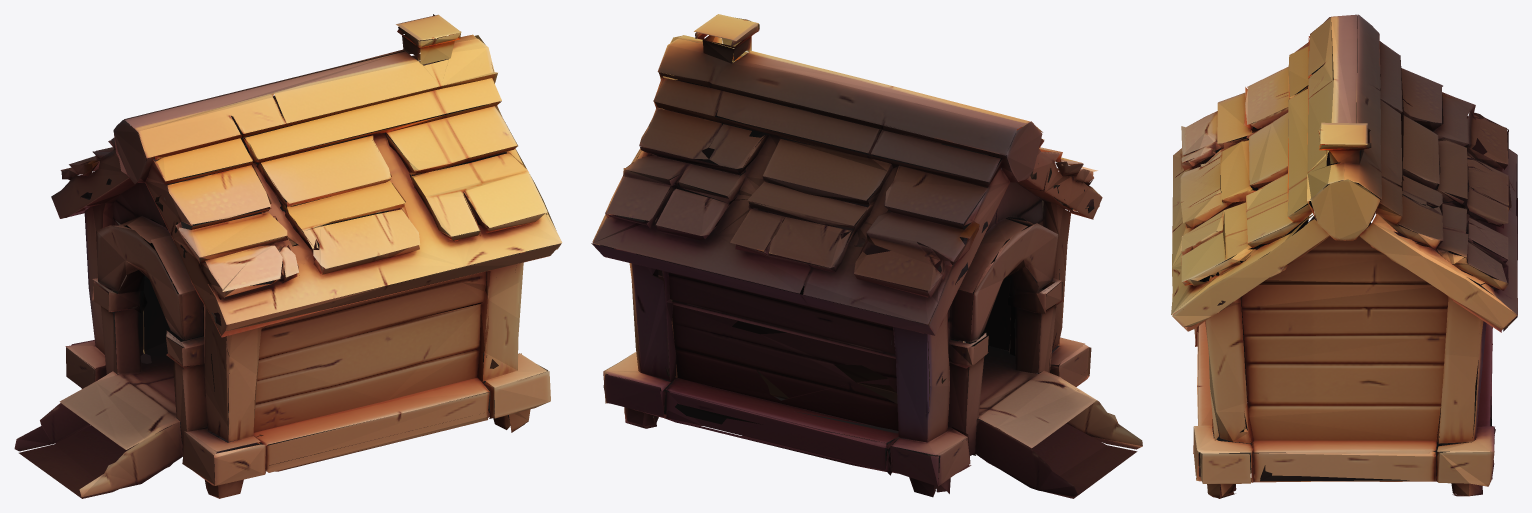
File: chicken_coop.fbx
3 renders of one model, left to right at view 1: azimuth 30°, elevation 25°; view 2: azimuth 150°, elevation 25°; view 3: azimuth 270°, elevation 25°, orthographic.
Parts seen in each view (by area): view 1: chicken_coop; view 2: chicken_coop; view 3: chicken_coop.
Boxes of the visible parts, left/top/right/bottom form: chicken_coop: left=14, top=14, right=562, bottom=498; chicken_coop: left=591, top=14, right=1142, bottom=498; chicken_coop: left=1171, top=14, right=1517, bottom=498.
Bounding box in the file's own units: 2.4 × 1.89 × 1.69.
1 material, 1 textured.
